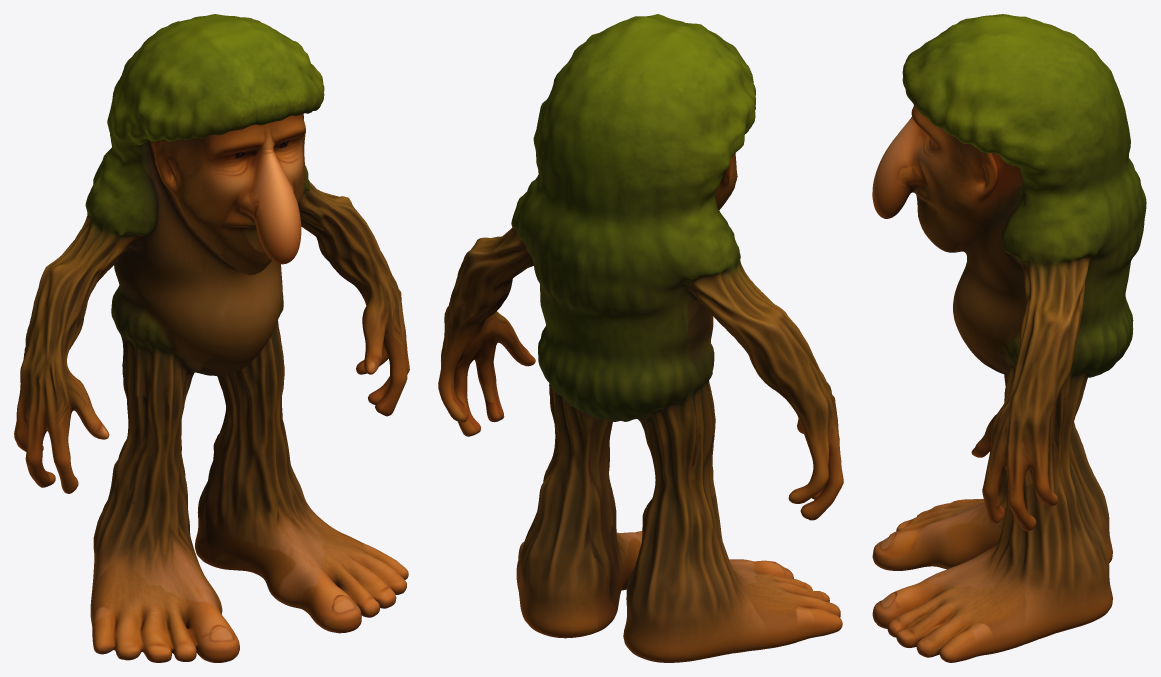
File: brr brr patapim.fbx
3 renders of one model, left to right at view 1: azimuth 30°, elevation 25°; view 2: azimuth 150°, elevation 25°; view 3: azimuth 270°, elevation 25°, orthographic. The views are drawn at different scales.
Visible parts, largest first — view 1: model.005; view 2: model.005; view 3: model.005.
Boxes of the visible parts, <box> form: model.005: <box>14,14,409,662</box>; model.005: <box>438,14,843,662</box>; model.005: <box>872,14,1146,662</box>.
Bounding box in the file's own units: 1242 × 1790 × 780.
1 material, 1 textured.
